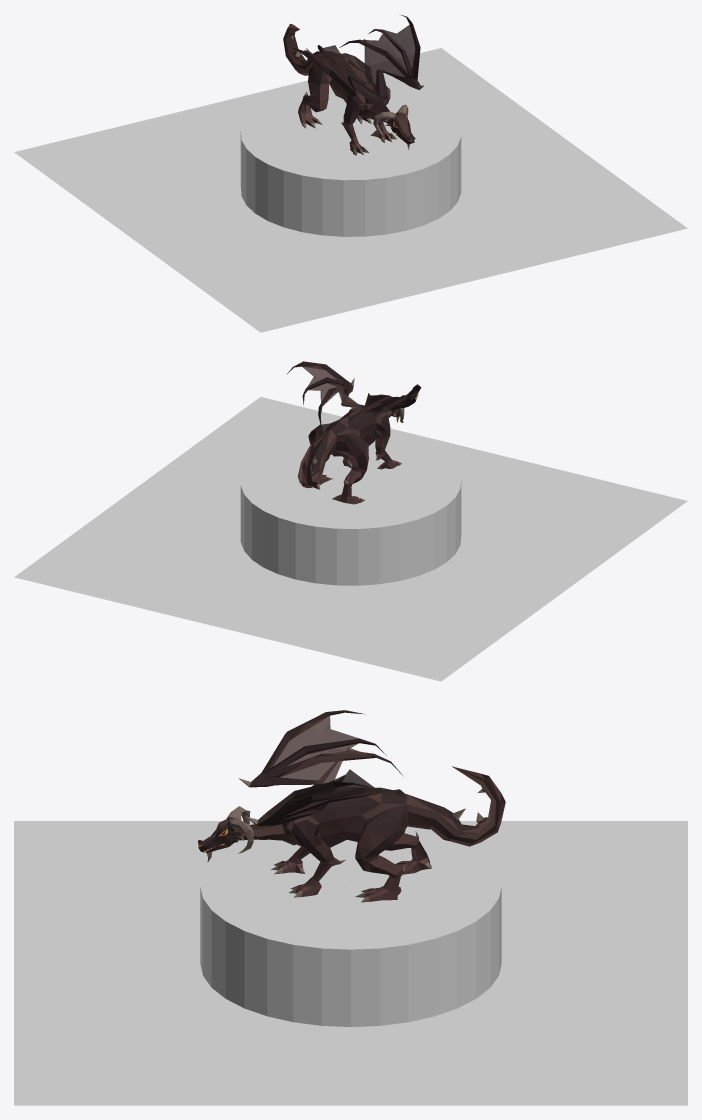
The model's file is InfernoDragon.glb.
3 views of the same model, one above another, from view 1: azimuth 30°, elevation 25°; view 2: azimuth 150°, elevation 25°; view 3: azimuth 270°, elevation 25° (orthographic). The views are drawn at different scales.
Parts seen in each view (by area): view 1: lava, ground, dragon, wings, body; view 2: lava, ground, dragon, wings, body; view 3: lava, ground, dragon, wings, body.
Boxes of the visible parts, x1,y1,x2,y2 form: lava: (14,48,687,332); ground: (240,88,461,236); dragon: (283,14,423,155); wings: (312,25,415,86); body: (283,26,389,118); lava: (14,397,687,681); ground: (240,439,461,585); dragon: (287,361,421,504); wings: (302,365,415,412); body: (303,408,387,482); lava: (14,821,687,1105); ground: (200,827,501,1026); dragon: (198,710,505,902); wings: (268,716,380,812); body: (282,767,495,845).
Bounding box in the file's own units: 19.96 × 7.81 × 19.96.
2 materials, 2 textured.
